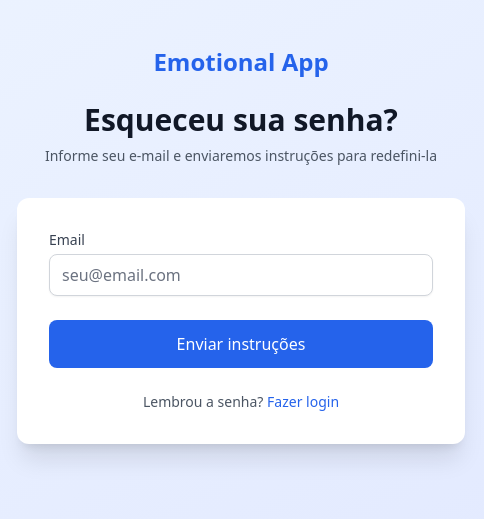
Test case: ForgotPasswordPage (KAN-17/KAN-78) › a real network/server failure shows an error, not the success message
Type "a@example.com" into the field labelled "Email" at (241, 275), box [49, 254, 433, 296]
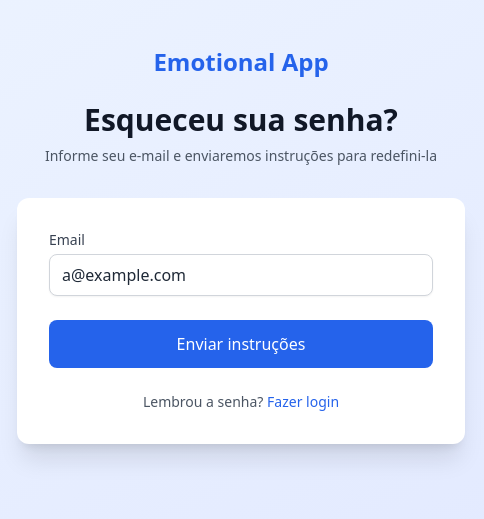
Click the button "Enviar instruções" at (241, 344), box [49, 320, 433, 368]
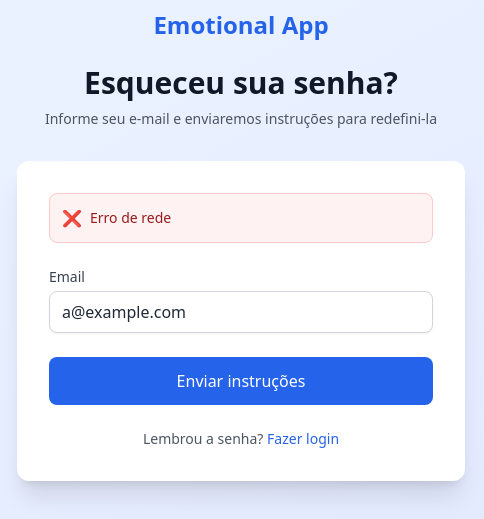
expect the text "Erro de rede" is shown: met, box [90, 208, 171, 228]
